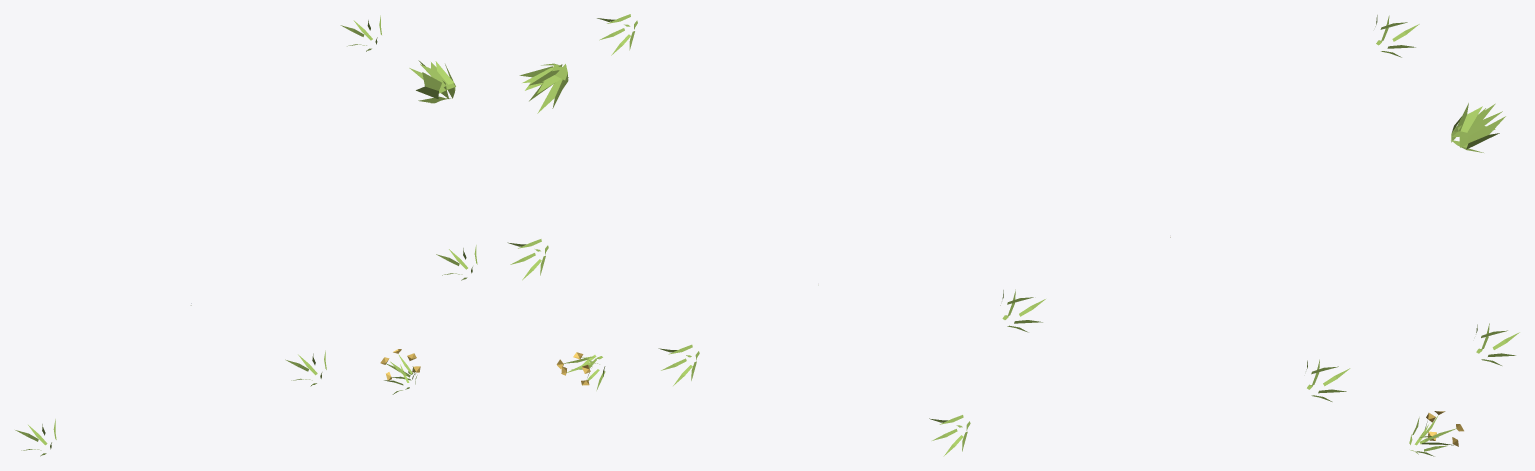
File: FlyingLand_1.glb
3 views of the same model, side by side, from view 1: azimuth 30°, elevation 25°; view 2: azimuth 150°, elevation 25°; view 3: azimuth 330°, elevation 25° (orthographic). The views are drawn at different scales.
Parts seen in each view (by area): view 1: Grass_2_1__2_; view 2: Grass_2_1__2_; view 3: Grass_2_1__2_.
Part boxes in pixels (<box>): Grass_2_1__2_: <box>409,60,455,103</box>; Grass_2_1__2_: <box>519,63,568,113</box>; Grass_2_1__2_: <box>1451,103,1505,152</box>.
Bounding box in the file's own units: 3478 × 2739 × 420.
Materials: 24 (6 with a texture image).
